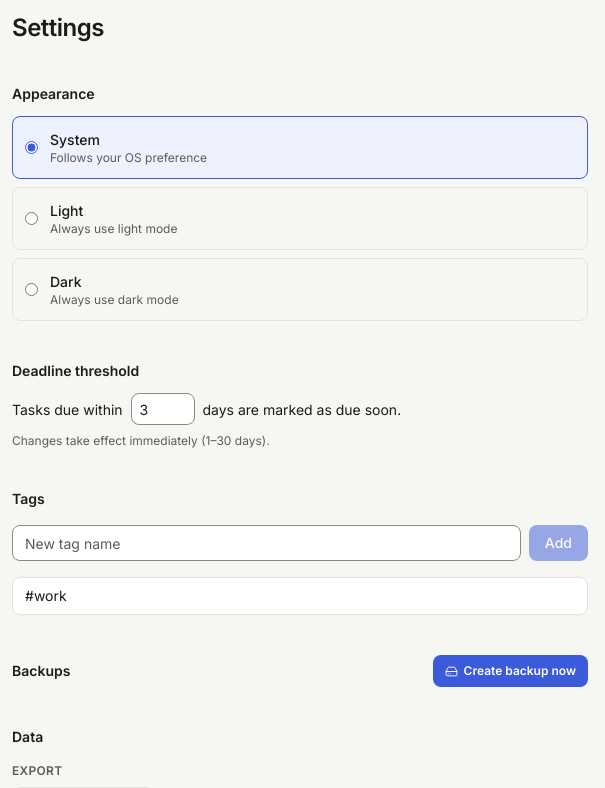
Scenario: SettingsPage › shows error for out-of-range threshold
Replace the text in the number field named "threshold" with "50" at (162, 409), box [130,393,194,425]
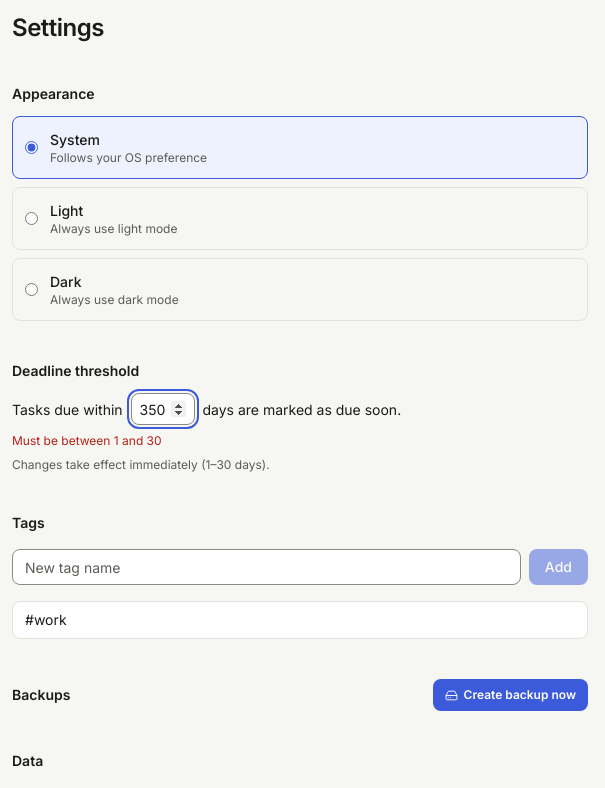
Now the text "Must be between 1 and 30" is shown, box [12,433,162,448]
